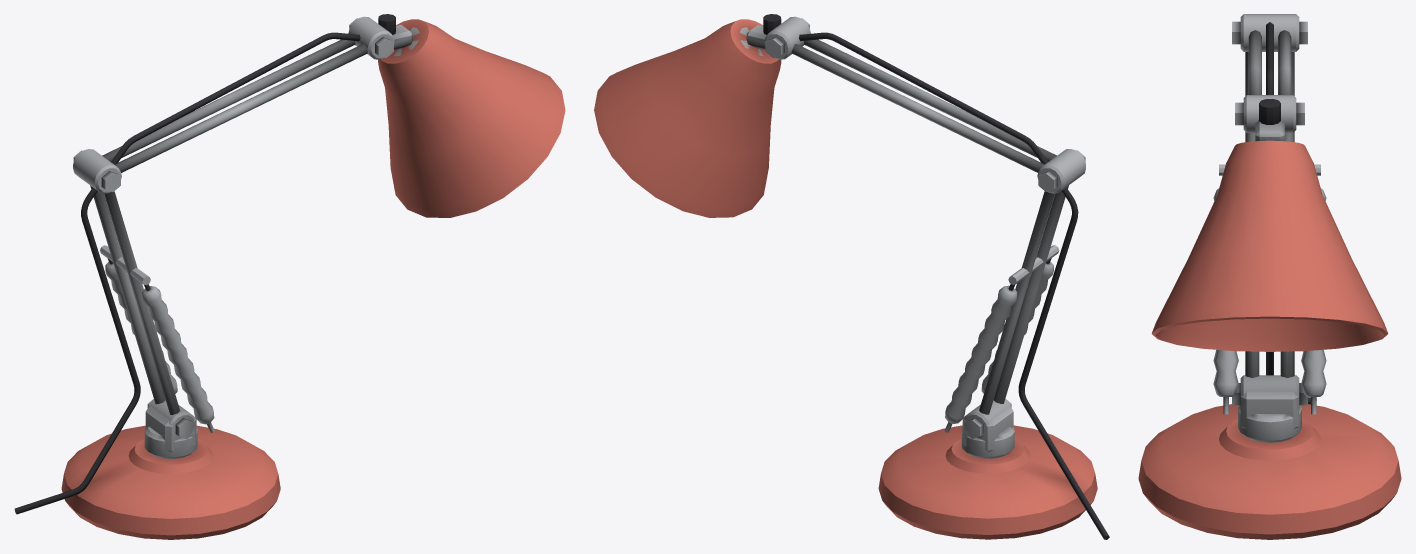
File: junk_lamp.glb
3 views of the same model, side by side, from view 1: azimuth 30°, elevation 25°; view 2: azimuth 150°, elevation 25°; view 3: azimuth 270°, elevation 25° (orthographic). The views are drawn at different scales.
Parts seen in each view (by area): view 1: PART; view 2: PART; view 3: PART.
Boxes of the visible parts, x1=… form: PART: x1=14, y1=14, x2=565, y2=539; PART: x1=594, y1=14, x2=1109, y2=539; PART: x1=1138, y1=14, x2=1401, y2=539.
Size of the model in its own units: 0.4906 by 0.385 by 0.18.
